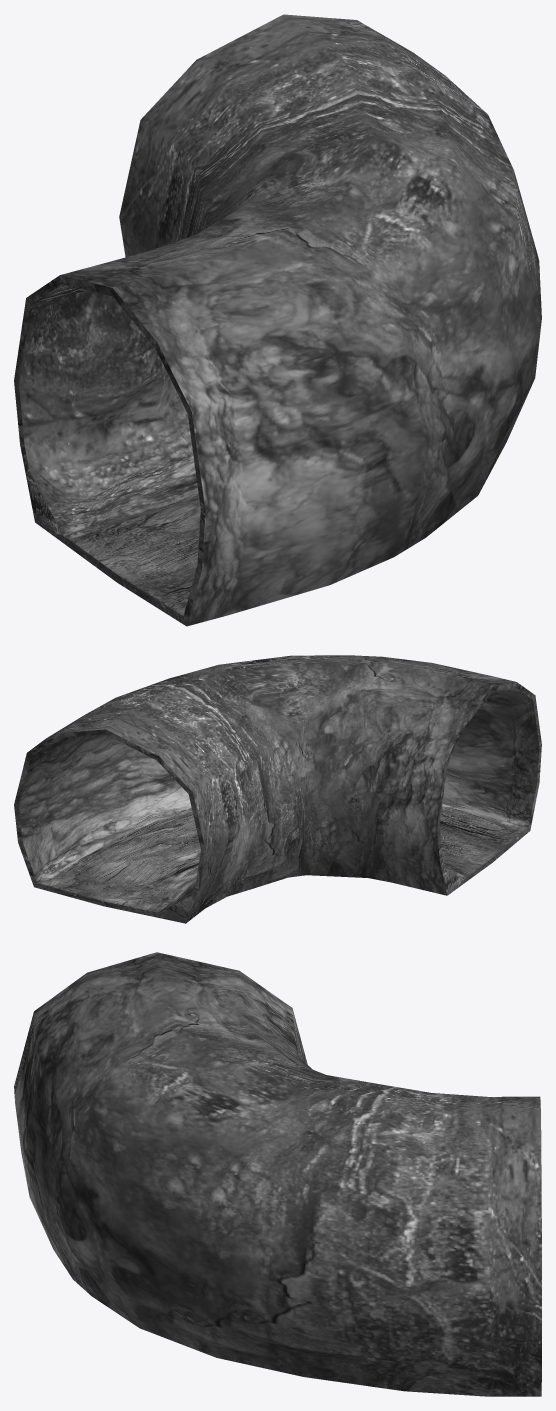
File: cavecorridor5.fbx
The picture shows the model from 3 angles, top to bottom: view 1: azimuth 30°, elevation 25°; view 2: azimuth 150°, elevation 25°; view 3: azimuth 270°, elevation 25°; orthographic projection. The views are drawn at different scales.
Parts seen in each view (by area): view 1: cavecorridor5; view 2: cavecorridor5; view 3: cavecorridor5.
Part boxes in pixels (x1=…): cavecorridor5: x1=14, y1=14, x2=541, y2=626; cavecorridor5: x1=14, y1=655, x2=541, y2=923; cavecorridor5: x1=14, y1=952, x2=541, y2=1396.
Bounding box in the file's own units: 181 × 91.84 × 180.
1 material, 1 textured.
